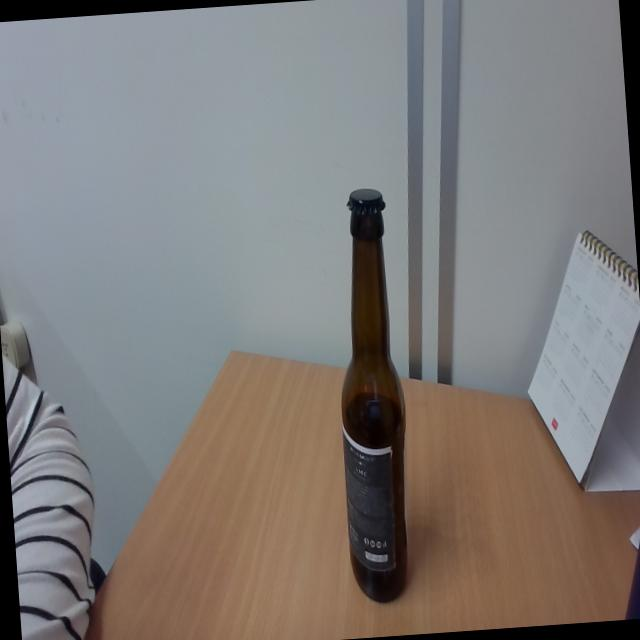Bottle: (327, 185, 418, 604)
Cap: (340, 186, 389, 223)
Label: (343, 436, 401, 578)
